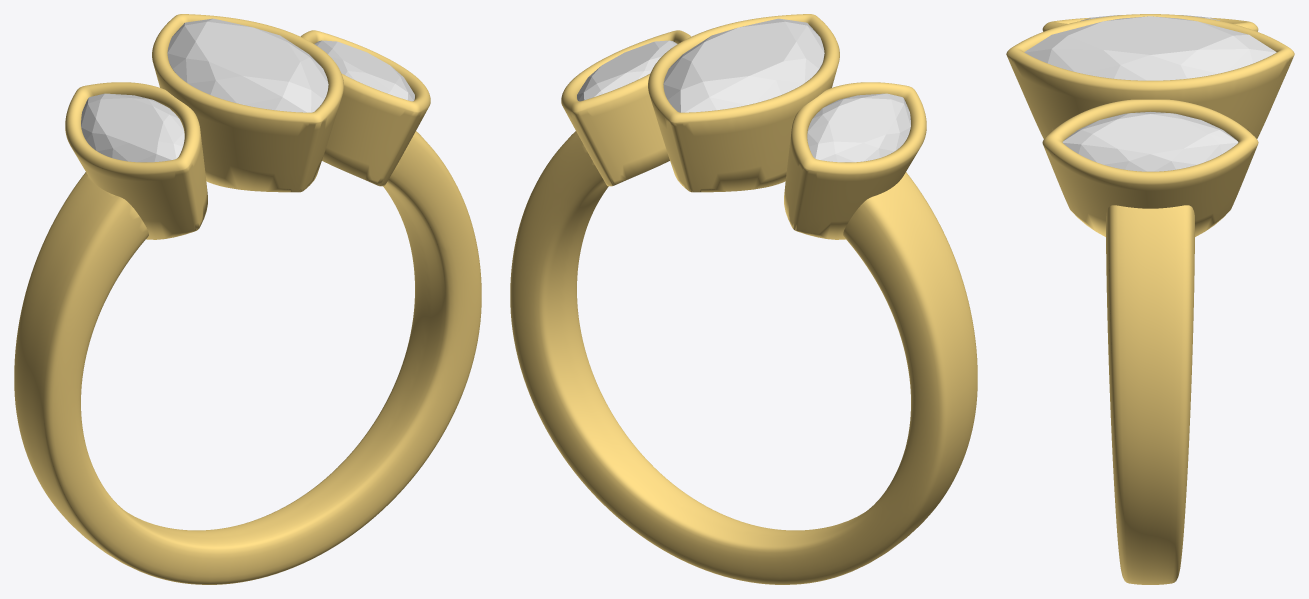
Rendered from diamond-marquise-yellowgold-bezelset-straighttaperedband-3stone.glb.
3 renders of one model, left to right at view 1: azimuth 30°, elevation 25°; view 2: azimuth 150°, elevation 25°; view 3: azimuth 270°, elevation 25°, orthographic.
Parts seen in each view (by area): view 1: metal.002, stone.002, side.005, side.004; view 2: metal.002, stone.002, side.005, side.004; view 3: metal.002, stone.002, side.004.
Part boxes in pixels (bbox=[...]): metal.002: bbox=[14, 14, 481, 584]; stone.002: bbox=[167, 18, 328, 112]; side.005: bbox=[81, 93, 184, 162]; side.004: bbox=[314, 40, 414, 101]; metal.002: bbox=[510, 14, 977, 584]; stone.002: bbox=[663, 18, 824, 112]; side.005: bbox=[807, 93, 910, 162]; side.004: bbox=[577, 40, 677, 101]; metal.002: bbox=[1006, 14, 1294, 584]; stone.002: bbox=[1024, 16, 1276, 80]; side.004: bbox=[1062, 112, 1238, 171].
Bounding box in the file's own units: 20.1 × 22.73 × 11.31.
